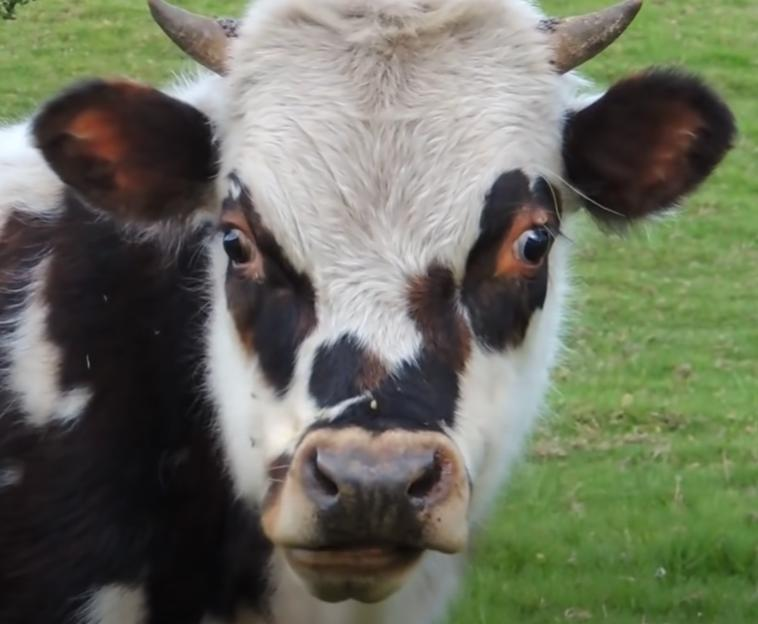cow: (0, 4, 736, 624)
